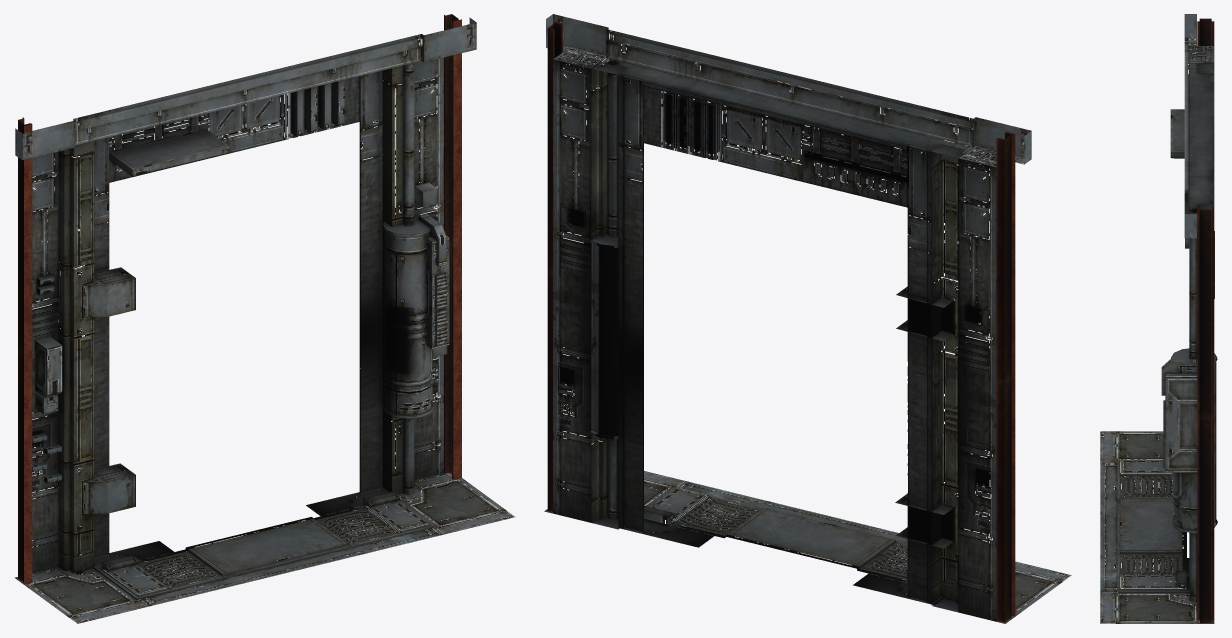
Rendered from slidedoor_doorway.dae.
3 views of the same model, side by side, from view 1: azimuth 30°, elevation 25°; view 2: azimuth 150°, elevation 25°; view 3: azimuth 270°, elevation 25° (orthographic). The views are drawn at different scales.
Visible parts, largest first — view 1: Mesh, polySurface718; view 2: Mesh, polySurface718; view 3: Mesh, polySurface718.
Part boxes in pixels (x1=…): Mesh: x1=14, y1=17, x2=514, y2=623; polySurface718: x1=18, y1=14, x2=461, y2=584; Mesh: x1=544, y1=14, x2=1071, y2=623; polySurface718: x1=547, y1=21, x2=1015, y2=622; Mesh: x1=1100, y1=14, x2=1217, y2=623; polySurface718: x1=1197, y1=18, x2=1214, y2=622.
Bounding box in the file's own units: 4.15 × 4 × 1.03.
